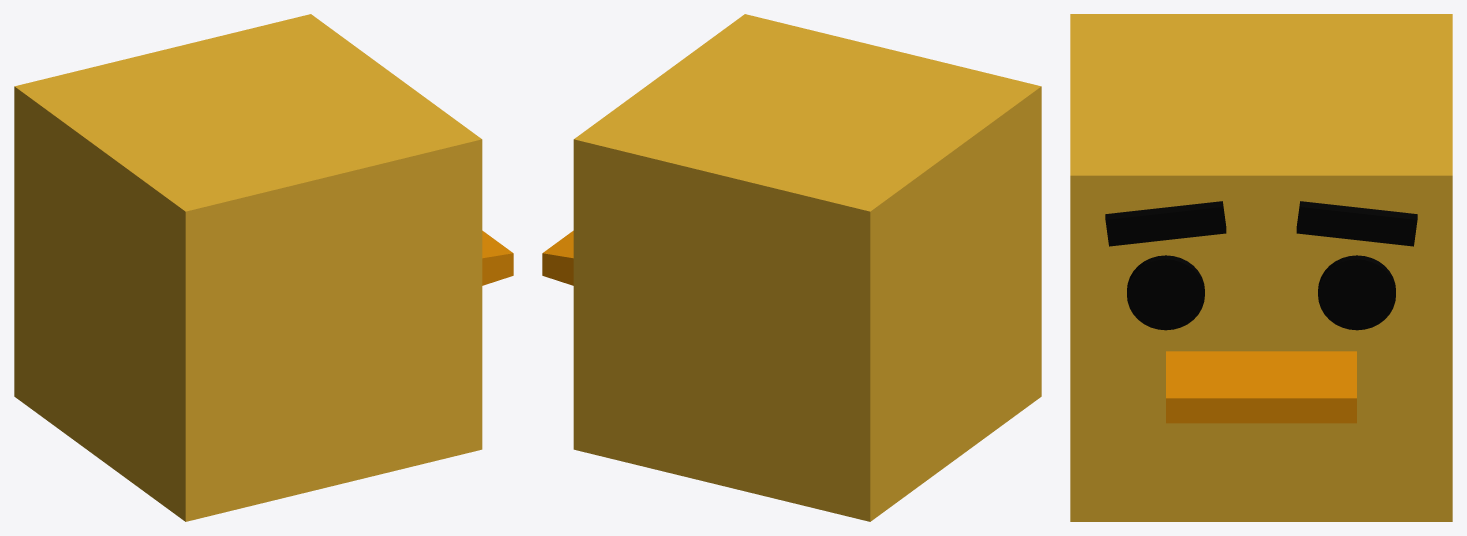
The model's file is Bird.fbx.
The picture shows the model from 3 angles, left to right: view 1: azimuth 30°, elevation 25°; view 2: azimuth 150°, elevation 25°; view 3: azimuth 270°, elevation 25°; orthographic projection. The views are drawn at different scales.
Visible parts, largest first — view 1: Bird; view 2: Bird; view 3: Bird.
Boxes of the visible parts, <box> form: Bird: <box>14,14,513,521</box>; Bird: <box>542,14,1041,521</box>; Bird: <box>1070,14,1452,521</box>.
Size of the model in its own units: 2.5 by 2 by 2.
